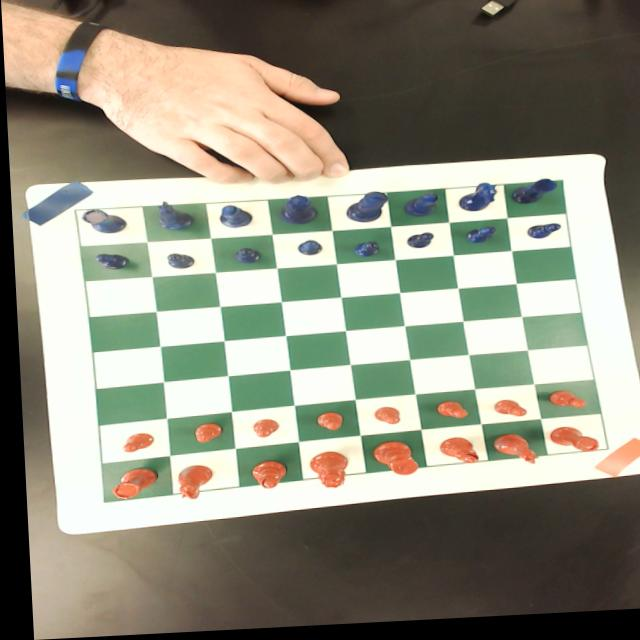B: (215, 206, 251, 232), (401, 197, 436, 222)
K: (342, 196, 385, 227)
N: (453, 186, 494, 217), (152, 202, 191, 233)
P: (91, 253, 126, 273), (522, 228, 560, 246), (161, 253, 193, 272), (461, 231, 494, 249), (400, 236, 431, 254), (229, 249, 259, 267), (349, 244, 378, 261), (294, 242, 321, 259)
Q: (275, 197, 316, 229)
R: (76, 208, 125, 236), (508, 183, 556, 211)
b: (243, 462, 282, 493), (432, 441, 473, 469)
cb: (72, 186, 602, 503)
k: (366, 443, 414, 481)
n: (487, 438, 534, 471), (171, 466, 209, 504)
p: (543, 396, 581, 416), (115, 433, 151, 454), (429, 404, 464, 425), (487, 404, 523, 423), (187, 424, 218, 446), (309, 415, 340, 435), (245, 421, 276, 441), (368, 410, 397, 430)
q: (302, 455, 344, 492)
r: (102, 468, 154, 502), (543, 431, 595, 461)
